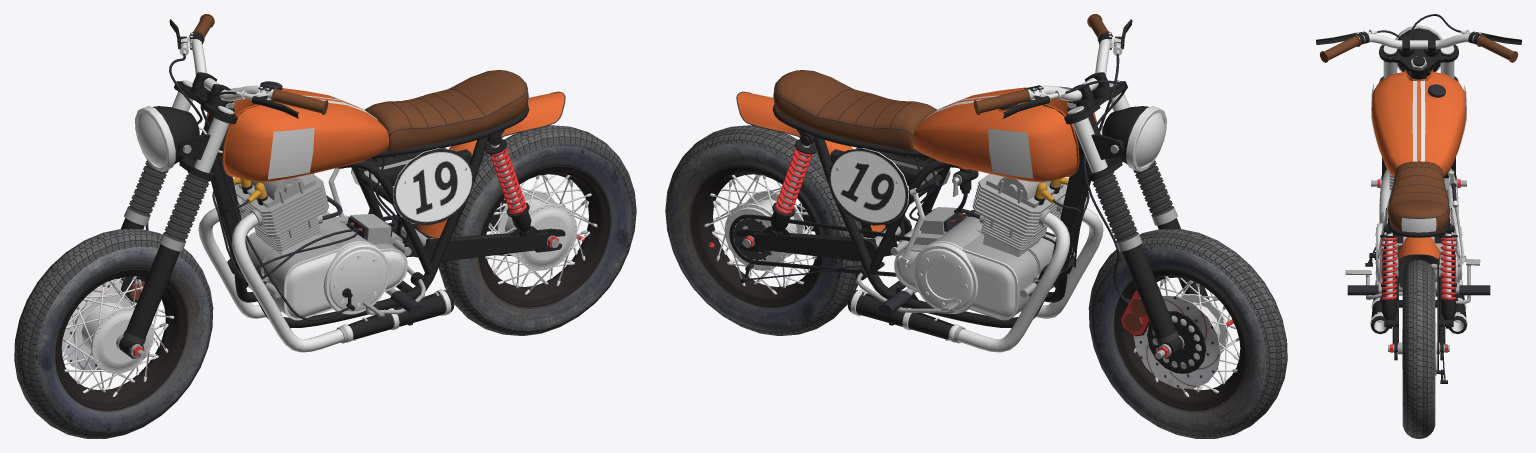
The model's file is yawa.fbx.
3 views of the same model, side by side, from view 1: azimuth 30°, elevation 25°; view 2: azimuth 150°, elevation 25°; view 3: azimuth 270°, elevation 25° (orthographic). The views are drawn at different scales.
Visible parts, largest first — view 1: Cylinder.001, Cylinder.011, benzobak_2LP, Cylinder.024, Cube.021, Cylinder.089, Cylinder.090, Circle.002, BezierCurve.005, Cylinder.099, Cylinder.028, Cube.032 (+28 smaller); view 2: Cylinder.001, Cylinder.011, benzobak_2LP, Cylinder.024, Cube.021, Cylinder.089, Circle.002, BezierCurve.005, Cylinder.108, Cylinder.090, Cylinder.028, Cylinder.056 (+29 smaller); view 3: benzobak_2LP, Cylinder.011, Cube.021, Cylinder.046, Circle.001, Plane.004, BezierCurve.004, Cylinder.040, Cylinder.024, Cylinder.073, benzobak_2LP.005, Cylinder.075 (+15 smaller).
Boxes of the visible parts, x1,y1,x2,y2 form: Cylinder.001: (14,229,213,438); Cylinder.011: (439,125,636,335); benzobak_2LP: (204,88,388,182); Cylinder.024: (211,104,529,328); Cube.021: (365,70,528,152); Cylinder.089: (479,165,610,307); Cylinder.090: (55,268,187,410); Circle.002: (351,148,473,225); BezierCurve.005: (198,204,343,352); Cylinder.099: (73,293,153,373); Cylinder.028: (127,160,209,242); Cube.032: (286,251,405,318); Cylinder.001: (1088,229,1287,438); Cylinder.011: (665,125,863,335); benzobak_2LP: (913,87,1096,182); Cylinder.024: (772,104,1090,328); Cube.021: (773,70,936,152); Cylinder.089: (691,165,822,307); Circle.002: (828,148,950,225); BezierCurve.005: (958,204,1103,352); Cylinder.108: (1133,295,1220,388); Cylinder.090: (1114,268,1246,410); Cylinder.028: (1092,160,1174,242); Cylinder.056: (915,248,973,310); benzobak_2LP: (1371,71,1466,176); Cylinder.011: (1402,260,1435,438); Cube.021: (1387,161,1450,233); Cylinder.046: (1380,223,1457,328); Circle.001: (1381,237,1456,299); Plane.004: (1398,237,1439,286); BezierCurve.004: (1358,33,1479,48); Cylinder.040: (1324,36,1513,59); Cylinder.024: (1380,216,1457,307); Cylinder.073: (1371,293,1466,333); benzobak_2LP.005: (1412,80,1425,161); Cylinder.075: (1347,285,1490,295).
Size of the model in its own units: 404 by 217 by 146.
